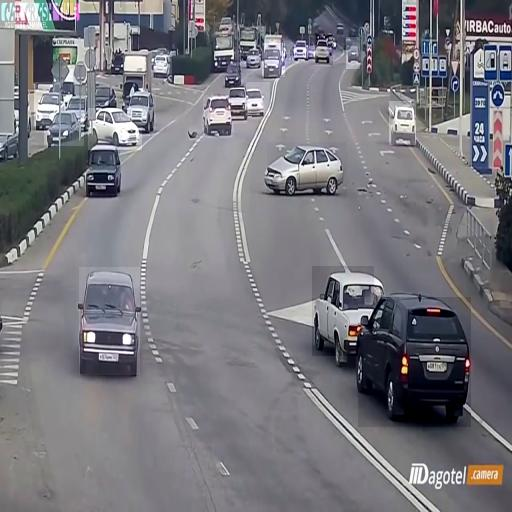小汽车: (358, 298, 471, 428), (79, 267, 140, 375), (312, 266, 374, 356), (267, 142, 347, 198), (88, 108, 142, 150), (88, 139, 120, 194), (44, 104, 84, 146), (203, 95, 234, 137), (389, 101, 416, 145), (34, 82, 60, 126), (126, 91, 156, 128), (213, 22, 240, 60), (226, 90, 252, 124), (246, 82, 270, 116), (262, 43, 285, 77), (316, 34, 334, 66), (151, 50, 172, 77), (292, 36, 309, 64), (346, 37, 360, 69)
